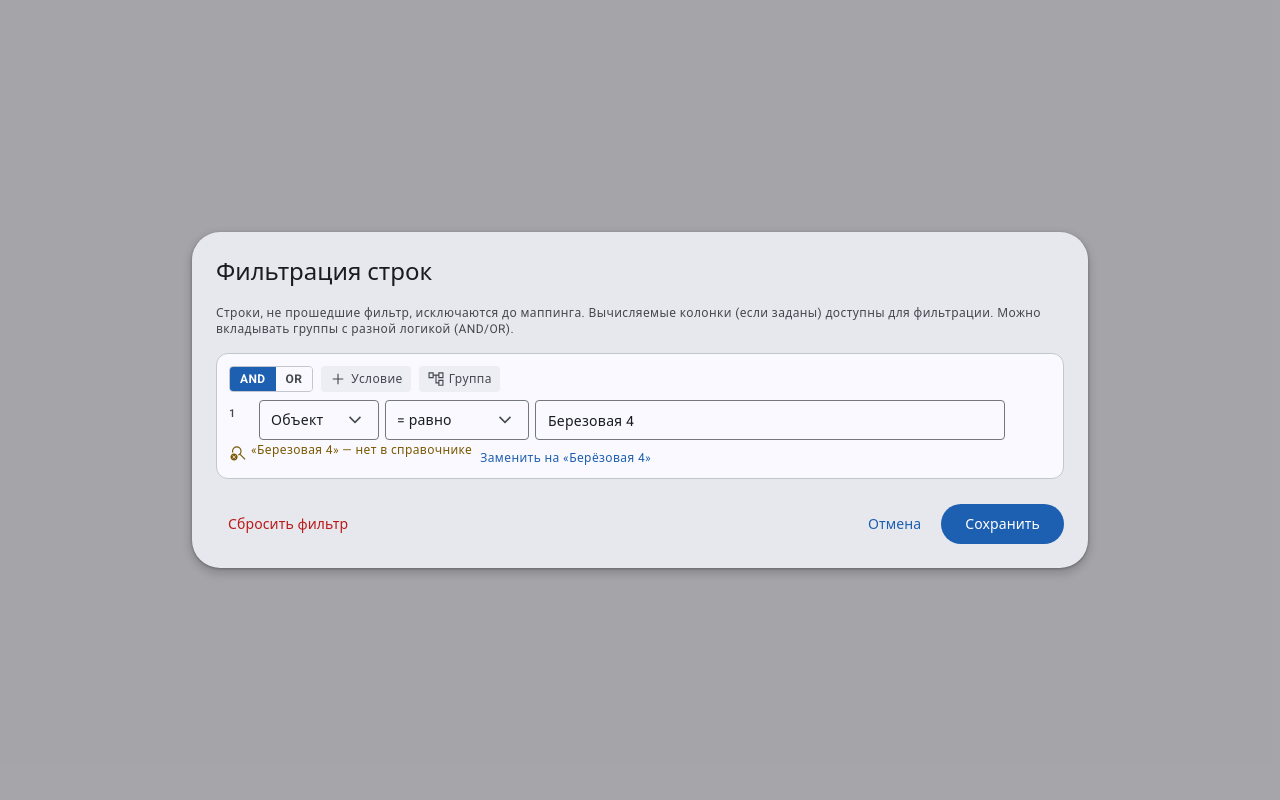
Test case: RowFilterDialog: пометка в строке условия › под условием — пометка с заменой; замена возвращает фокус в поле
This screenshot has width=1280, height=800.
Expected: the text "«Березовая 4» — нет в справочнике" is shown, [251,442,472,458]
Click the button "Заменить на «Берёзовая 4»": (566, 458) [480,450,651,466]
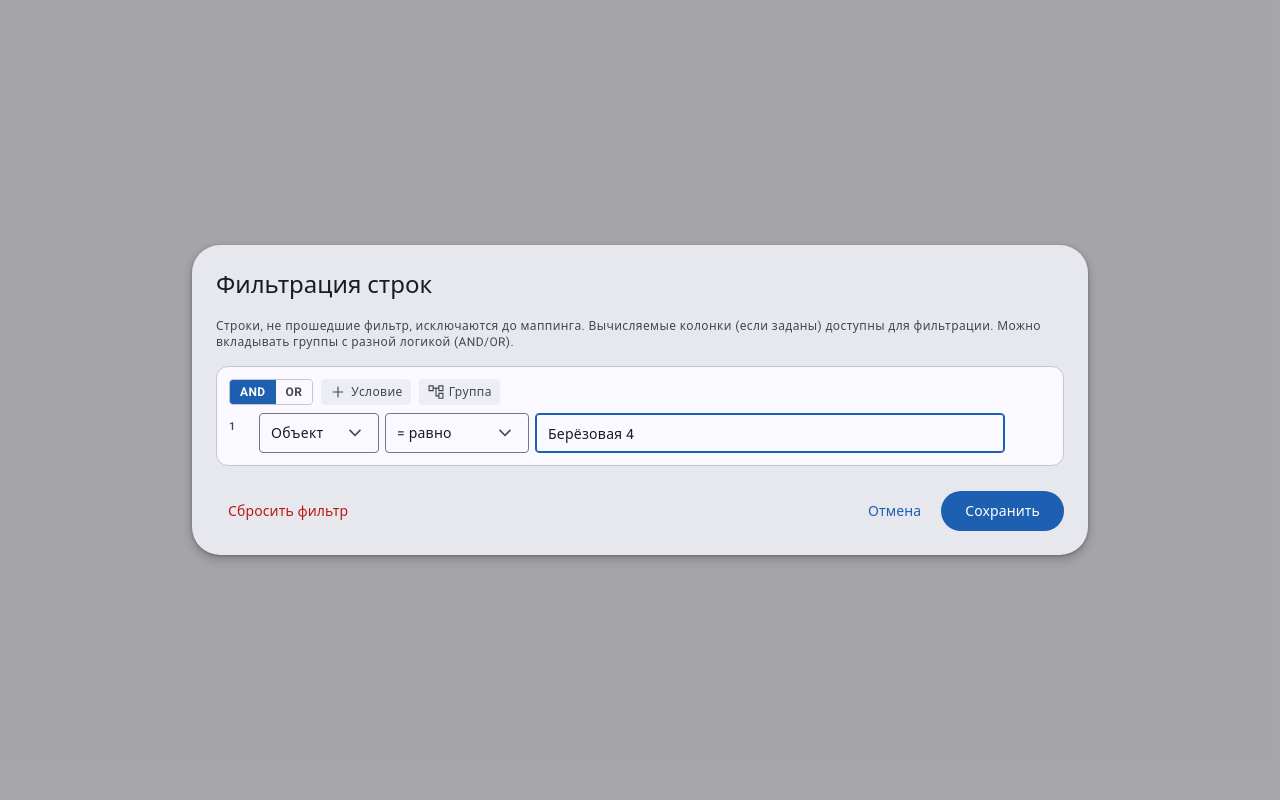
Result: the dropdown named "Значение" holds "Берёзовая 4" at [535,413,1005,453]
Result: the text "нет в справочнике" is gone
